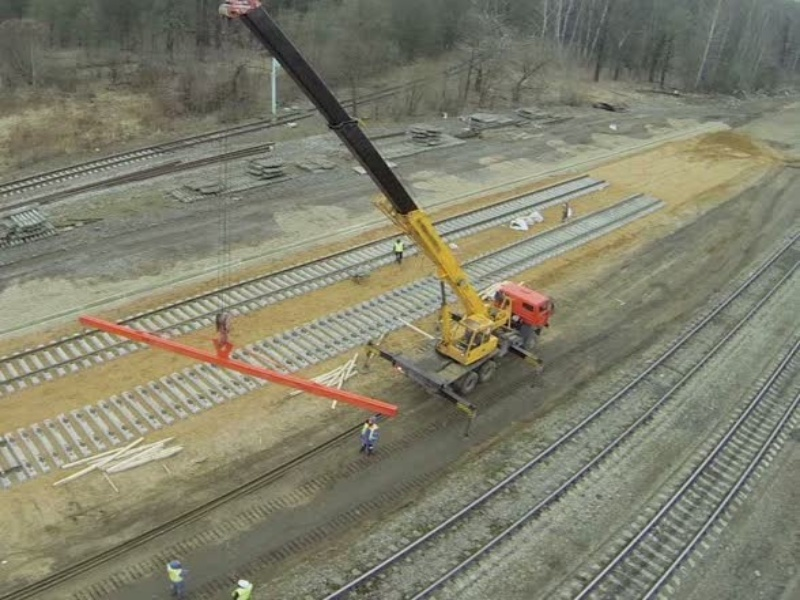crane: (220, 1, 554, 406)
